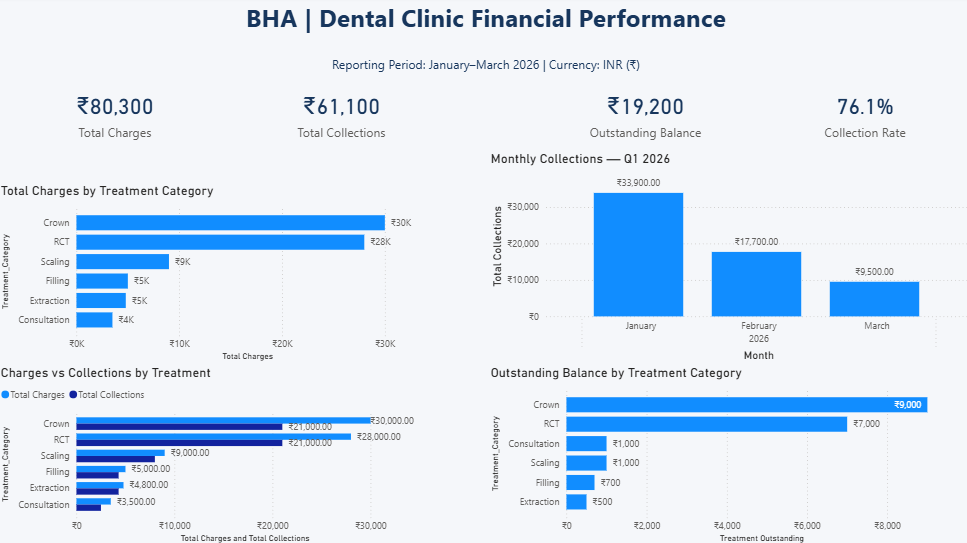

What the dashboard file says about the page in this screenshot:
{"tool":"powerbi","page":{"name":"Financial Performance","canvas":[1280,720],"ordinal":0},"visuals":[{"type":"card","fields":{"Values":["tbl_PowerBI_Transactions.Total Charges"]},"box":[0,0,308.9,307.1],"z":0},{"type":"card","fields":{"Values":["tbl_PowerBI_Transactions.Total Collections"]},"box":[308.9,0,284,307.1],"z":1},{"type":"card","fields":{"Values":["tbl_PowerBI_Transactions.Outstanding Balance"]},"box":[704.8,0,289.4,307.1],"z":2},{"type":"card","fields":{"Values":["tbl_PowerBI_Transactions.Collection Rate"]},"box":[994.2,0,285.8,307.1],"z":3},{"type":"clusteredBarChart","title":"Total Charges by Treatment Category","fields":{"Category":["tbl_PowerBI_Transactions.Treatment_Category"],"Y":["tbl_PowerBI_Transactions.Total Charges"]},"box":[0,245,571.7,237.9],"z":4},{"type":"clusteredColumnChart","title":"Monthly Collections — Q1 2026","fields":{"Category":["tbl_PowerBI_Transactions.Visit_Date.Variation.Date Hierarchy.Year","tbl_PowerBI_Transactions.Visit_Date.Variation.Date Hierarchy.Month"],"Y":["tbl_PowerBI_Transactions.Total Collections"]},"box":[640.9,202.4,639.1,280.5],"z":5},{"type":"clusteredBarChart","title":"Charges vs Collections by Treatment","fields":{"Category":["tbl_PowerBI_Transactions.Treatment_Category"],"Y":["tbl_PowerBI_Transactions.Total Charges","tbl_PowerBI_Transactions.Total Collections"]},"box":[0,482.9,571.7,237.9],"z":6},{"type":"textbox","box":[0,0,1280,72.8],"z":7},{"type":"textbox","box":[0,72.8,1280,35.5],"z":8},{"type":"clusteredBarChart","title":"Outstanding Balance by Treatment Category","fields":{"Category":["tbl_PowerBI_Transactions.Treatment_Category"],"Y":["tbl_PowerBI_Transactions.Treatment Outstanding"]},"box":[640.9,482.9,639.1,237.9],"z":9}]}

Visuals, with their boxes in screenshot pixels (x1, y1, x2, y2), scaled from the page's 1280x720 canvas onto the 967x543 screenshot:
card - tbl_PowerBI_Transactions.Total Charges: 0:0:233:232
card - tbl_PowerBI_Transactions.Total Collections: 233:0:448:232
card - tbl_PowerBI_Transactions.Outstanding Balance: 532:0:751:232
card - tbl_PowerBI_Transactions.Collection Rate: 751:0:966:232
"Total Charges by Treatment Category" clusteredBarChart: 0:185:432:364
"Monthly Collections — Q1 2026" clusteredColumnChart: 484:153:966:364
"Charges vs Collections by Treatment" clusteredBarChart: 0:364:432:542
textbox: 0:0:966:55
textbox: 0:55:966:82
"Outstanding Balance by Treatment Category" clusteredBarChart: 484:364:966:542
